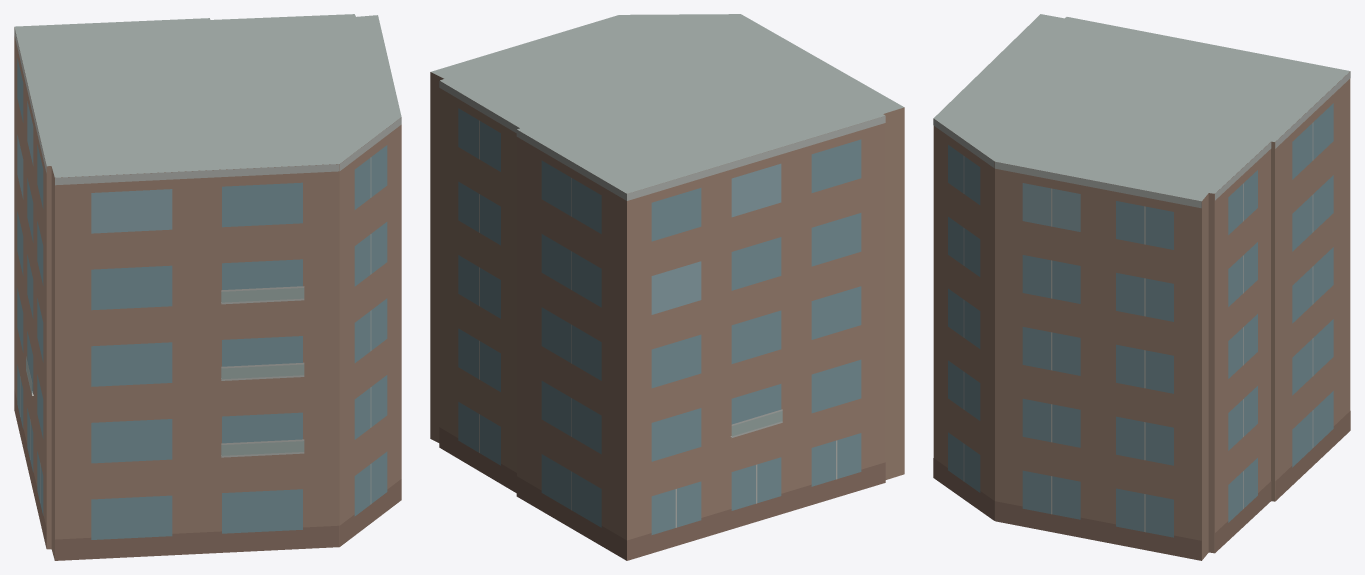
The model's file is survey-upis-32680247.glb.
3 renders of one model, left to right at view 1: azimuth 30°, elevation 25°; view 2: azimuth 150°, elevation 25°; view 3: azimuth 270°, elevation 25°, orthographic. The views are drawn at different scales.
Visible parts, largest first — view 1: survey-upis-32680247.tmp; view 2: survey-upis-32680247.tmp; view 3: survey-upis-32680247.tmp.
Part boxes in pixels (x1,y1,x2,y2): survey-upis-32680247.tmp: [14, 14, 401, 560]; survey-upis-32680247.tmp: [430, 14, 904, 560]; survey-upis-32680247.tmp: [933, 14, 1350, 560].
Size of the model in its own units: 13.98 by 12.5 by 13.15.
